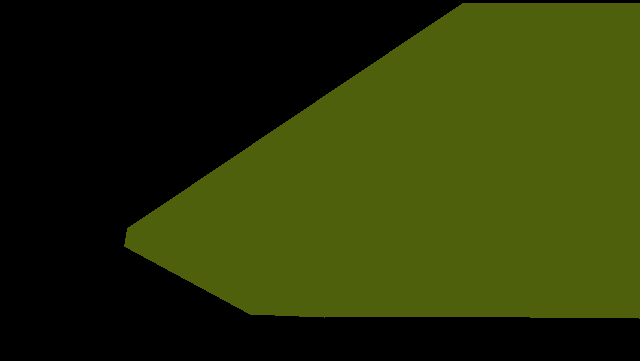Train: (124, 2, 640, 318)
